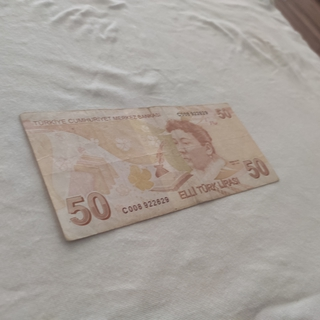50TLBack: (18, 101, 280, 241)
